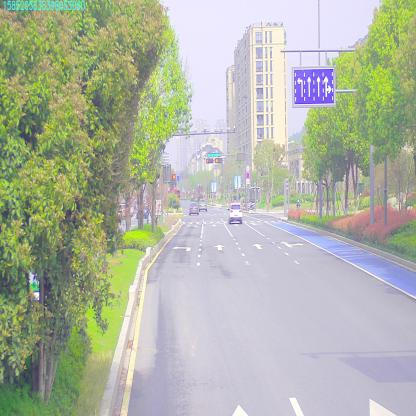traffic-light: (214, 157, 222, 165), (207, 153, 222, 157), (206, 158, 214, 164)
